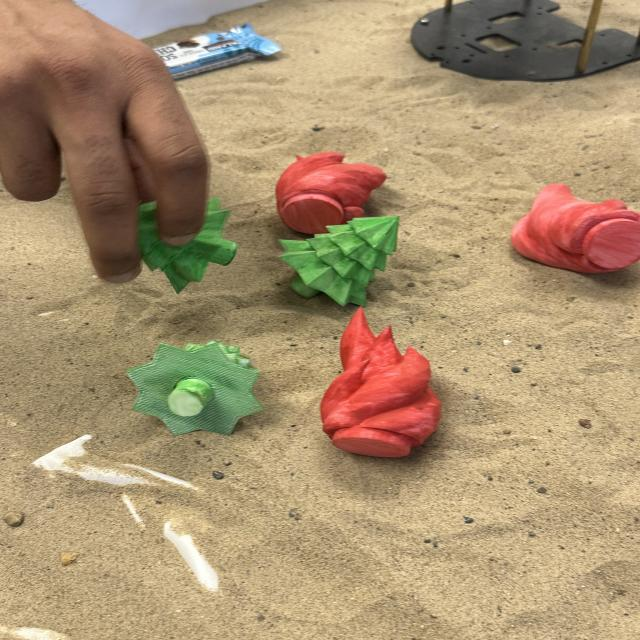fire: (318, 305, 443, 459), (512, 182, 640, 278), (275, 149, 390, 233)
tree: (123, 337, 266, 438), (132, 194, 242, 296), (282, 213, 401, 305)
